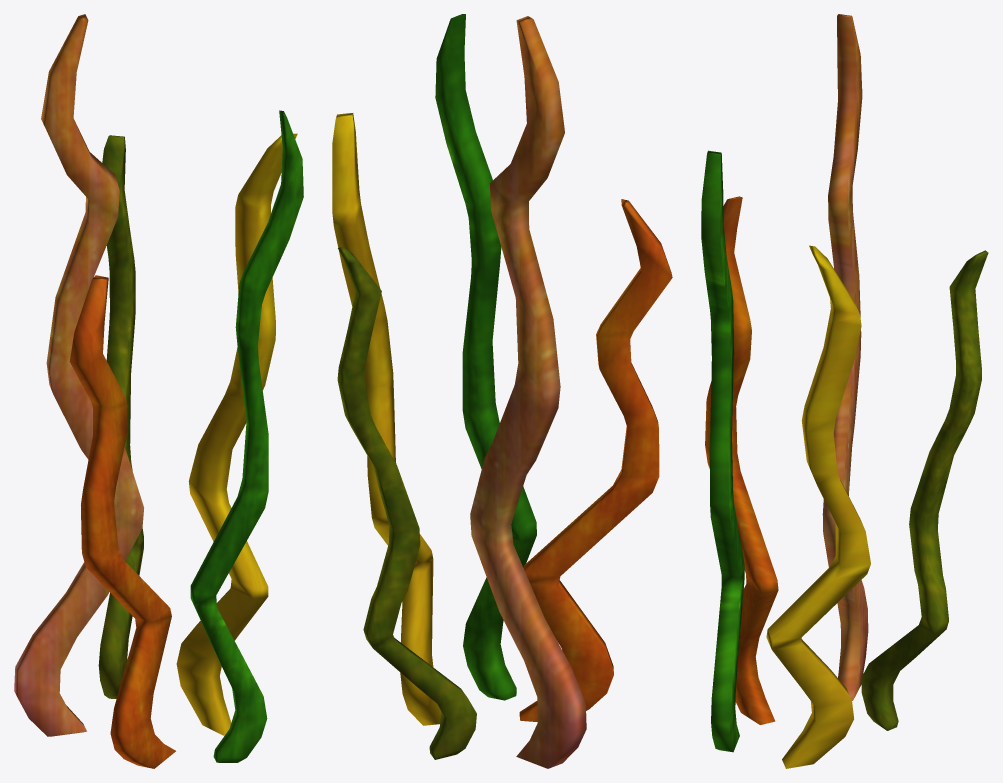
Rendered from VEG0410022.fbx.
3 views of the same model, side by side, from view 1: azimuth 30°, elevation 25°; view 2: azimuth 150°, elevation 25°; view 3: azimuth 270°, elevation 25° (orthographic). The views are drawn at different scales.
Parts seen in each view (by area): view 1: smVEG0410022; view 2: smVEG0410022; view 3: smVEG0410022.
Part boxes in pixels (x1,y1,x2,y2): smVEG0410022: (14, 14, 303, 768); smVEG0410022: (332, 14, 672, 768); smVEG0410022: (701, 14, 988, 768).
Size of the model in its own units: 88.54 by 222 by 82.85.
Materials: 1 (1 with a texture image).
